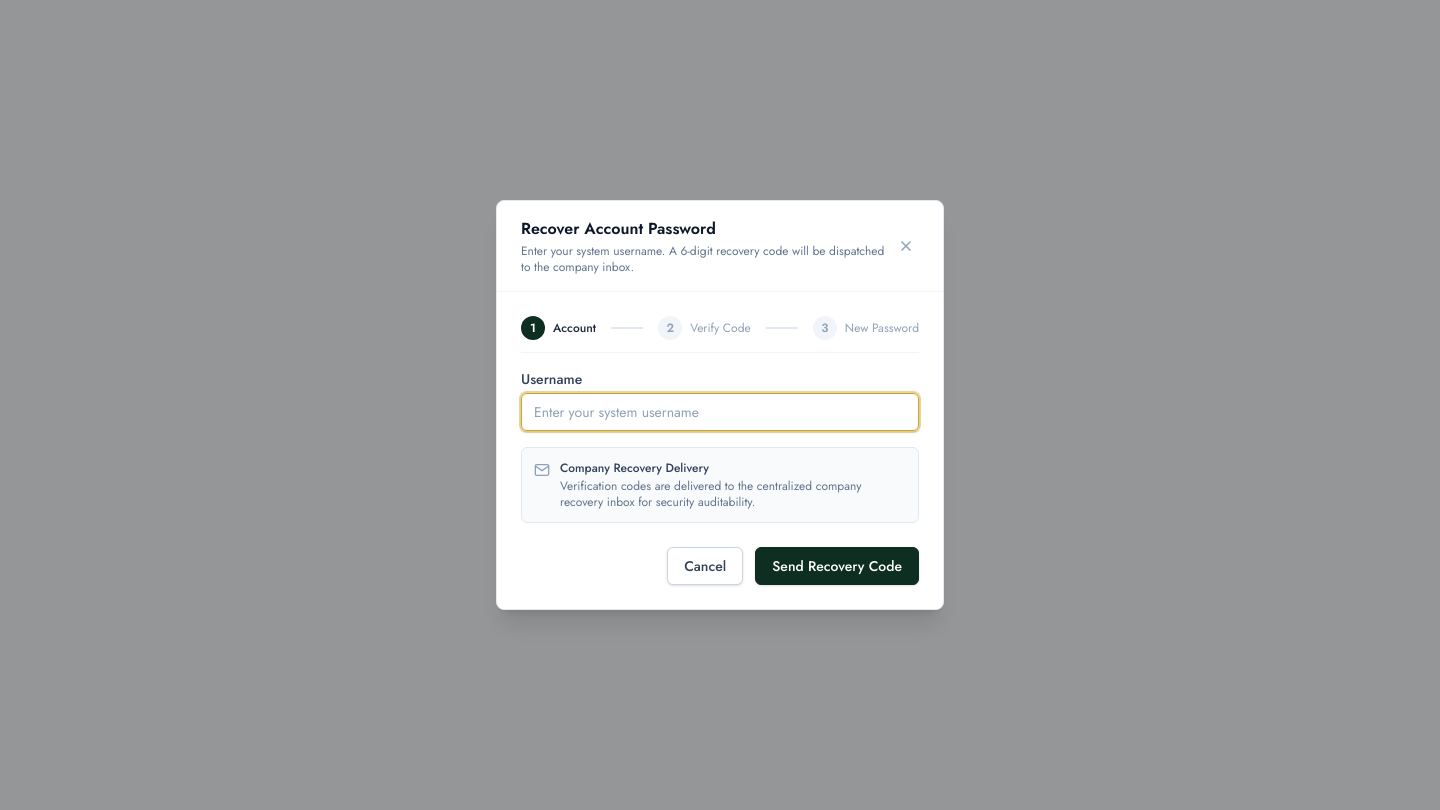
Test case: ForgotPasswordModal › allows navigation back to Step 1 via "Change Username" button
Type "finance_user" into the field labelled "Username" at (720, 412), box 521,393 -> 919,431
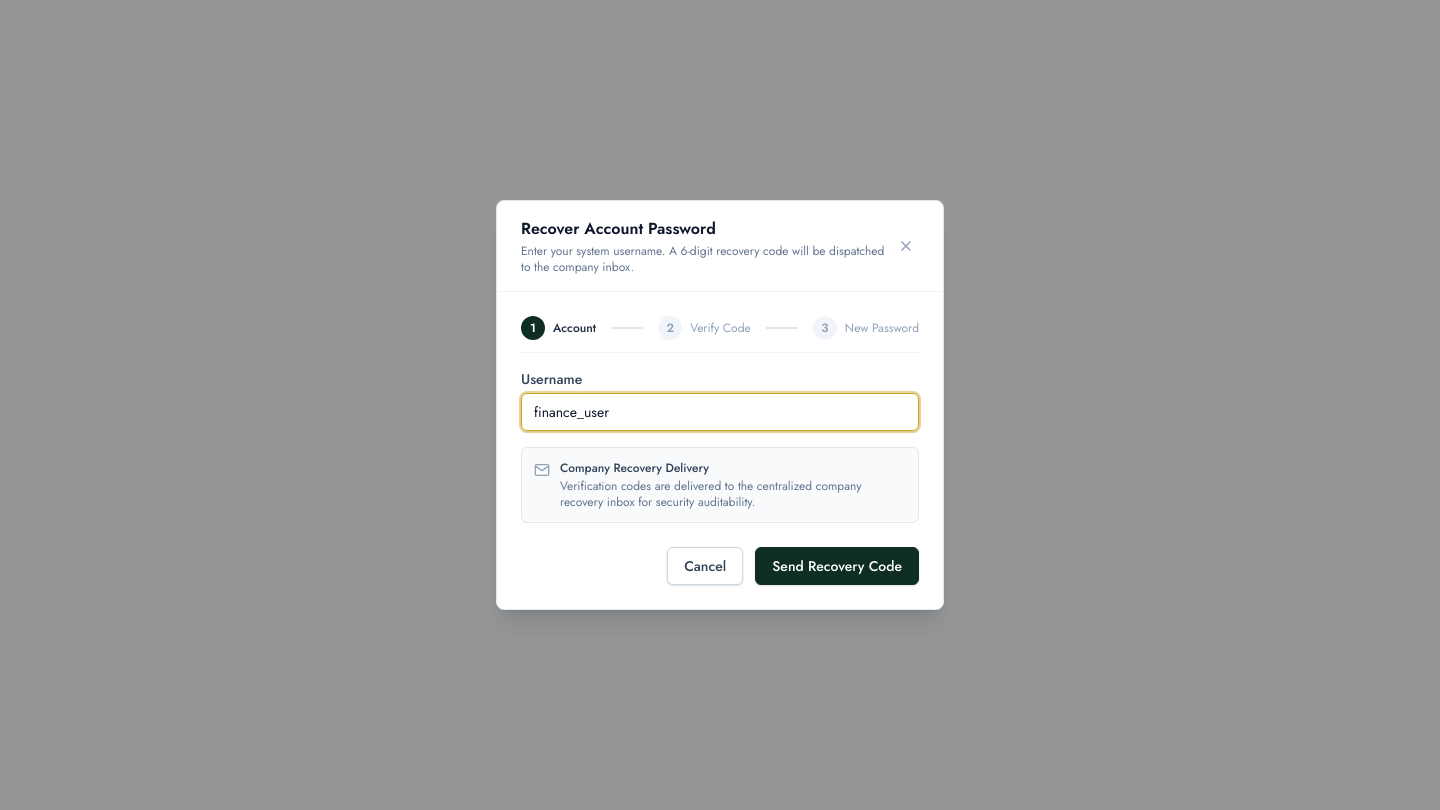
Click the button "Send Recovery Code" at (837, 566), box 755,547 -> 919,585
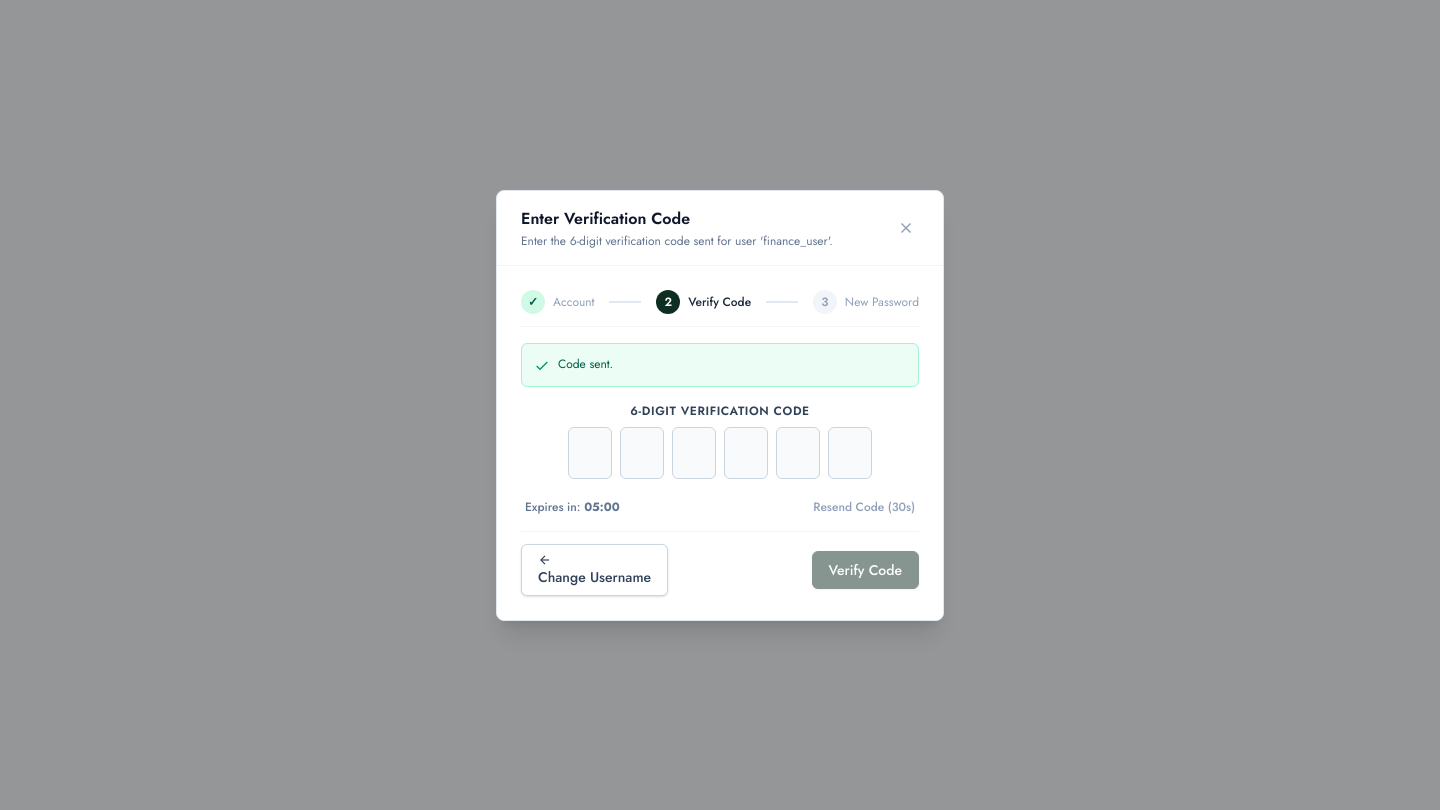
Expected: the heading "Enter Verification Code" is shown, 521,206 -> 690,230
Click the button "Change Username" at (595, 570), box 521,544 -> 668,596
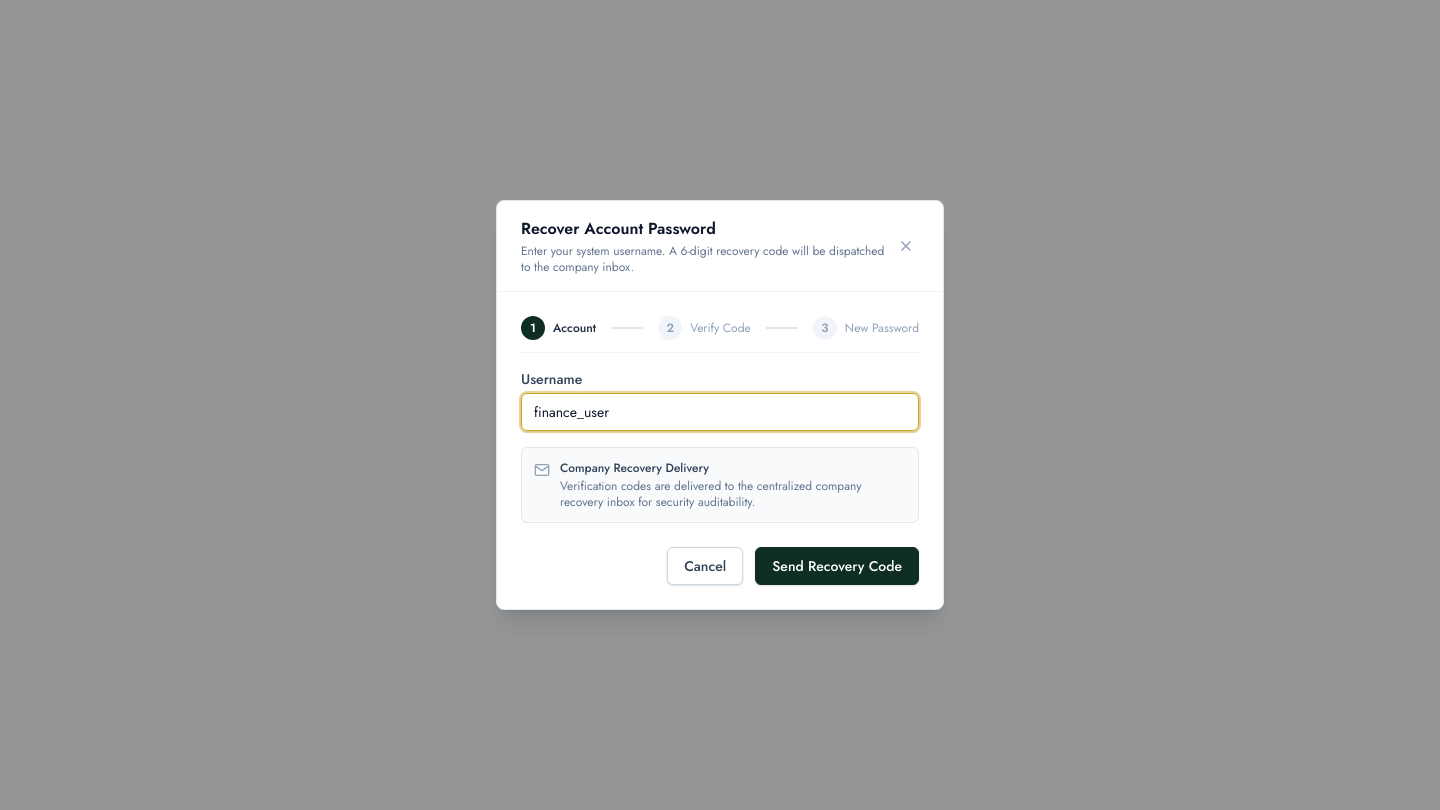
Expected: the heading "Recover Account Password" is shown, 521,217 -> 716,240
